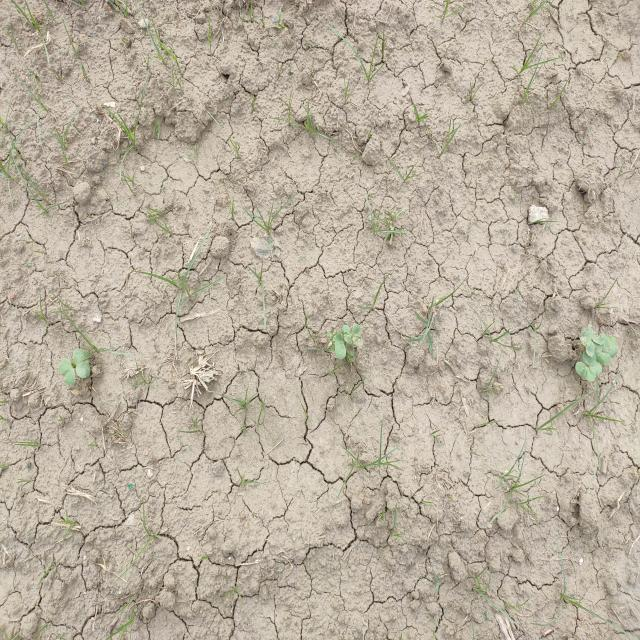seedling: (73, 348, 90, 379), (583, 349, 602, 376), (59, 358, 75, 386), (579, 330, 595, 358), (601, 332, 617, 358), (575, 362, 596, 381), (588, 324, 604, 345), (335, 333, 346, 359), (352, 324, 363, 346), (595, 350, 610, 366), (342, 325, 353, 344), (346, 344, 355, 362)
